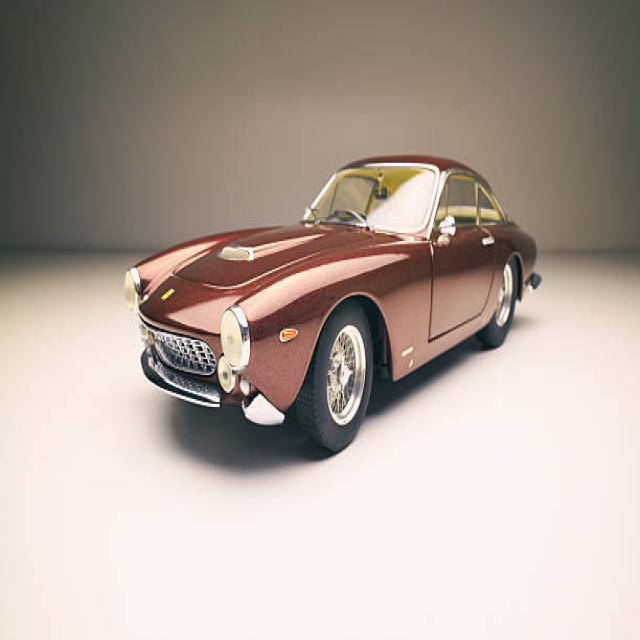Car: (123, 152, 542, 453)
